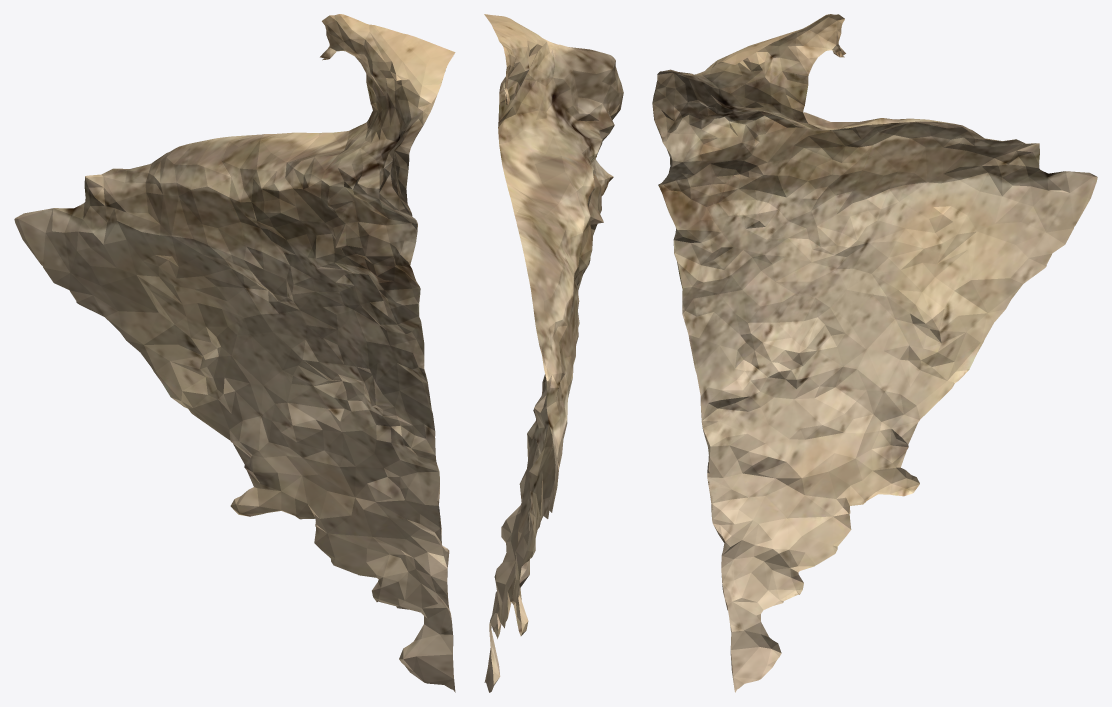
Rendered from tile_4_0.obj.
3 views of the same model, side by side, from view 1: azimuth 30°, elevation 25°; view 2: azimuth 150°, elevation 25°; view 3: azimuth 270°, elevation 25° (orthographic). The views are drawn at different scales.
Visible parts, largest first — view 1: texture_0; view 2: texture_0; view 3: texture_0.
Boxes of the visible parts, <box> form: texture_0: <box>14,14,455,692</box>; texture_0: <box>484,14,623,692</box>; texture_0: <box>652,14,1097,692</box>.
Size of the model in its own units: 0.1119 by 0.2753 by 0.1718.
1 material, 1 textured.
